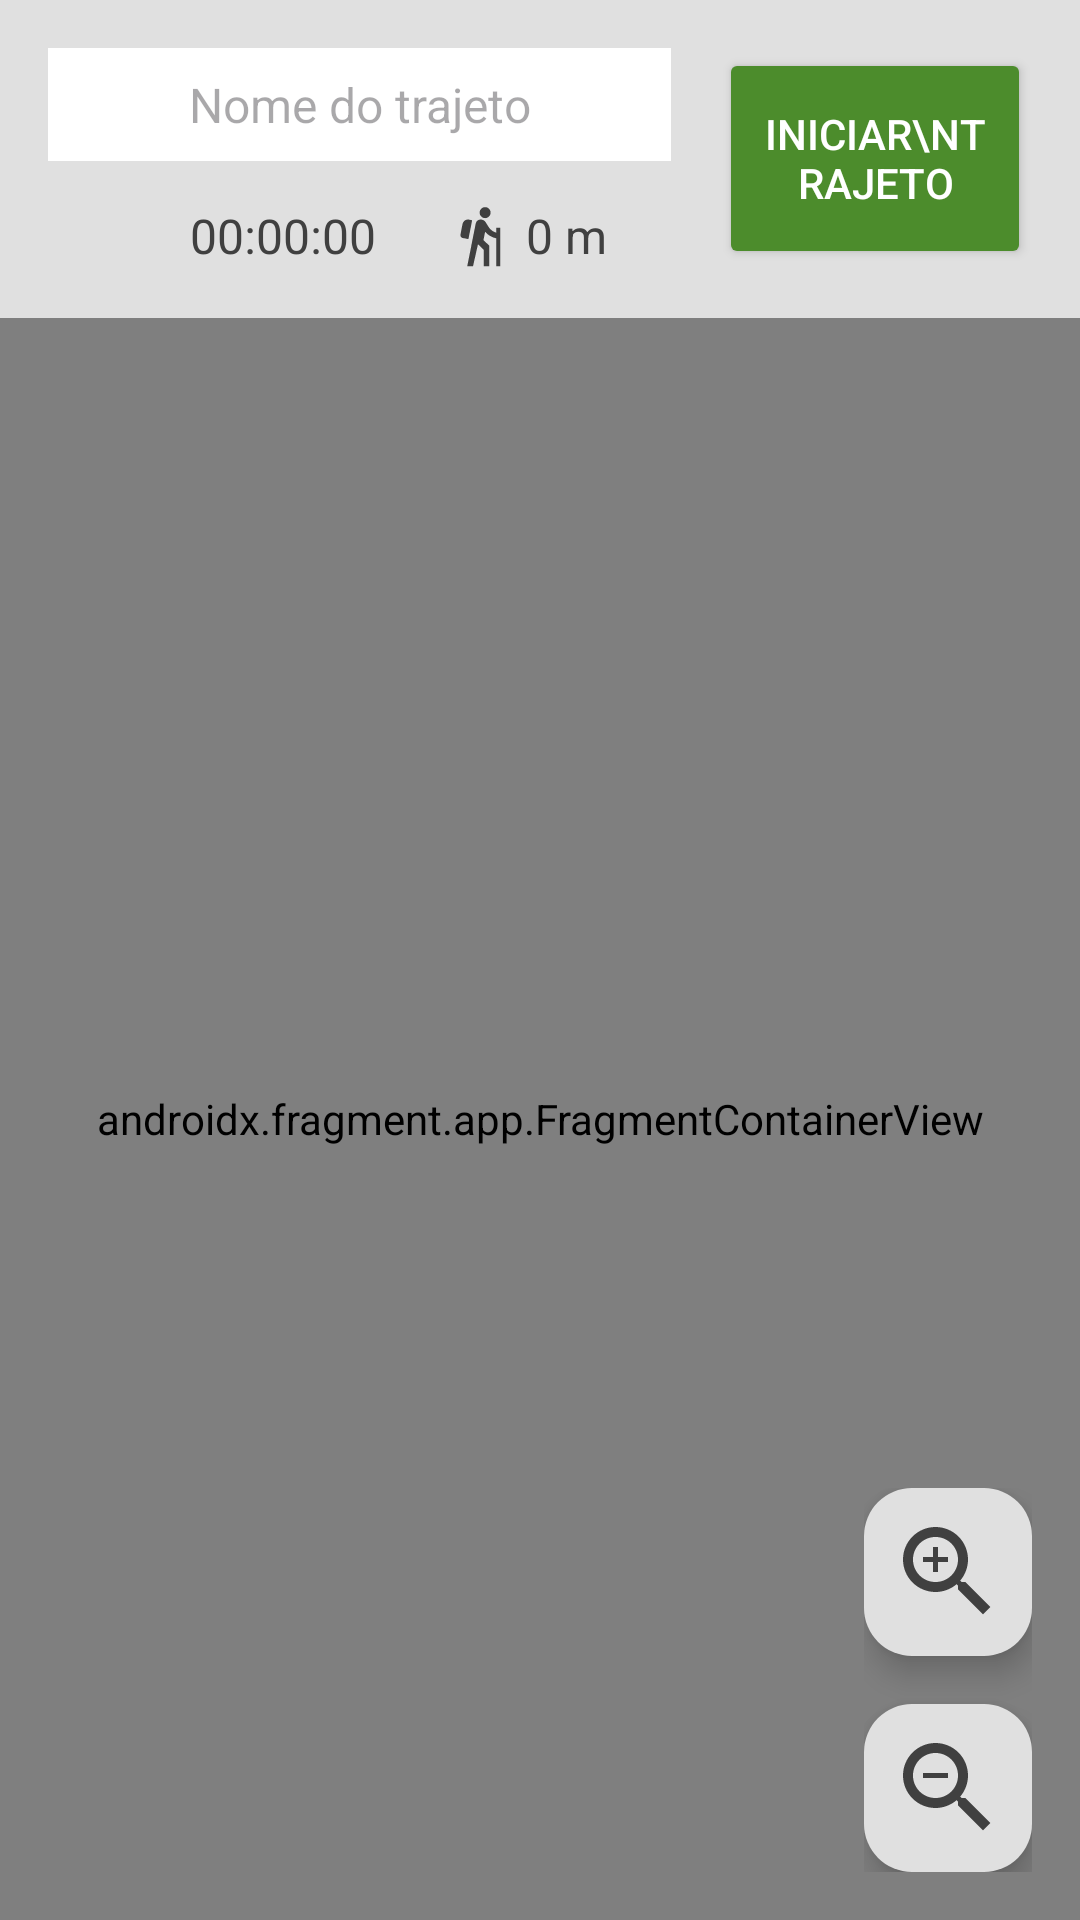

Point at icon controls on the screen. Image size 1080×1920, points as point (x, y).
Zoom In: point (948, 1572)
Zoom Out: point (948, 1788)
Ícone de distância: point (480, 237)
